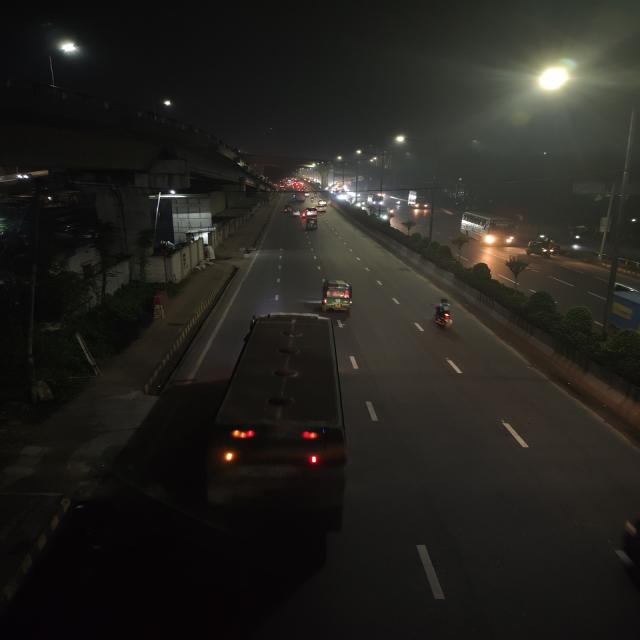bus: (210, 308, 350, 512), (460, 211, 518, 247), (408, 190, 428, 210)
car: (305, 207, 318, 217), (316, 205, 326, 212)
cng: (318, 278, 356, 314), (525, 239, 559, 259), (303, 216, 319, 232), (291, 208, 300, 218)
motorcycle: (426, 296, 461, 334), (387, 207, 396, 217)
